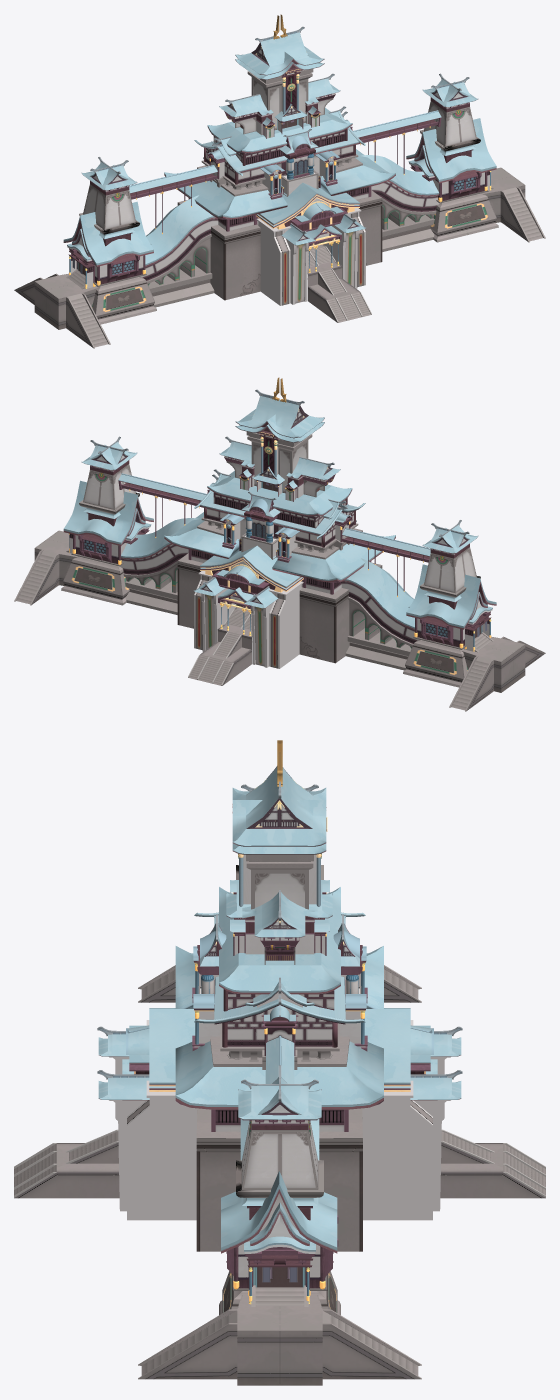
Rendered from chinese_fantasy_03_-_revisited.glb.
3 views of the same model, one above another, from view 1: azimuth 30°, elevation 25°; view 2: azimuth 150°, elevation 25°; view 3: azimuth 270°, elevation 25° (orthographic). The views are drawn at different scales.
Parts seen in each view (by area): view 1: Tower_BaseBase002_36, Passage_BottonMain_32, Ground_Base_51, Tower_BaseBase001_37, Tower_BaseRoof_59, Ground_Base_Roof_54, Tower_Main.001_65, Main_004Stairs_33, Main_004Deco004_48, Tower_BaseBase001.001_55, Main_004Deco003_49, Roof_001_7 (+28 smaller); view 2: Tower_BaseBase002_36, Passage_BottonMain_32, Ground_Base_51, Tower_BaseBase001_37, Tower_BaseRoof_59, Ground_Base_Roof_54, Tower_Main.001_65, Main_004Stairs_33, Main_004Deco004_48, Tower_BaseBase001.001_55, Main_004Deco003_49, Roof_001_7 (+27 smaller); view 3: Tower_BaseBase002_36, Main_004Deco004_48, Main_004Stairs_33, Ground_Base_Roof_54, Ground_Base_51, Main_004Deco003_49, Roof_001_7, Main_002_10, Tower_Main.001_65, Main_003_34, MainWalls_53, Tower_BaseRoof_59 (+21 smaller).
Part boxes in pixels (x1=…): Tower_BaseBase002_36: x1=14, y1=167, x2=545, y2=348; Passage_BottonMain_32: x1=140, y1=155, x2=439, y2=283; Ground_Base_51: x1=177, y1=190, x2=382, y2=300; Tower_BaseBase001_37: x1=92, y1=190, x2=498, y2=324; Tower_BaseRoof_59: x1=63, y1=118, x2=496, y2=266; Ground_Base_Roof_54: x1=164, y1=149, x2=395, y2=219; Tower_Main.001_65: x1=79, y1=101, x2=480, y2=234; Main_004Stairs_33: x1=307, y1=244, x2=371, y2=322; Main_004Deco004_48: x1=256, y1=208, x2=365, y2=305; Tower_BaseBase001.001_55: x1=148, y1=215, x2=434, y2=307; Main_004Deco003_49: x1=256, y1=182, x2=359, y2=231; Roof_001_7: x1=235, y1=32, x2=324, y2=79; Tower_BaseBase002_36: x1=14, y1=530, x2=545, y2=711; Passage_BottonMain_32: x1=120, y1=518, x2=431, y2=646; Ground_Base_51: x1=177, y1=553, x2=382, y2=663; Tower_BaseBase001_37: x1=61, y1=553, x2=467, y2=687; Tower_BaseRoof_59: x1=63, y1=480, x2=496, y2=629; Ground_Base_Roof_54: x1=164, y1=512, x2=395, y2=582; Tower_Main.001_65: x1=79, y1=464, x2=480, y2=597; Main_004Stairs_33: x1=188, y1=607, x2=252, y2=685; Main_004Deco004_48: x1=194, y1=571, x2=303, y2=668; Tower_BaseBase001.001_55: x1=125, y1=578, x2=435, y2=670; Main_004Deco003_49: x1=200, y1=545, x2=303, y2=594; Roof_001_7: x1=235, y1=396, x2=324, y2=442; Tower_BaseBase002_36: x1=138, y1=965, x2=421, y2=1385; Main_004Deco004_48: x1=127, y1=1020, x2=432, y2=1220; Main_004Stairs_33: x1=14, y1=1129, x2=545, y2=1198; Ground_Base_Roof_54: x1=175, y1=946, x2=383, y2=1109; Ground_Base_51: x1=196, y1=1108, x2=362, y2=1251; Main_004Deco003_49: x1=126, y1=1008, x2=433, y2=1091; Roof_001_7: x1=232, y1=766, x2=326, y2=854; Main_002_10: x1=219, y1=887, x2=340, y2=994; Tower_Main.001_65: x1=236, y1=865, x2=323, y2=1197; Main_003_34: x1=194, y1=912, x2=365, y2=1066; MainWalls_53: x1=215, y1=990, x2=344, y2=1131; Tower_BaseRoof_59: x1=221, y1=1171, x2=337, y2=1253.
Size of the model in its own units: 246 by 126 by 137.
Materials: 19 (18 with a texture image).
